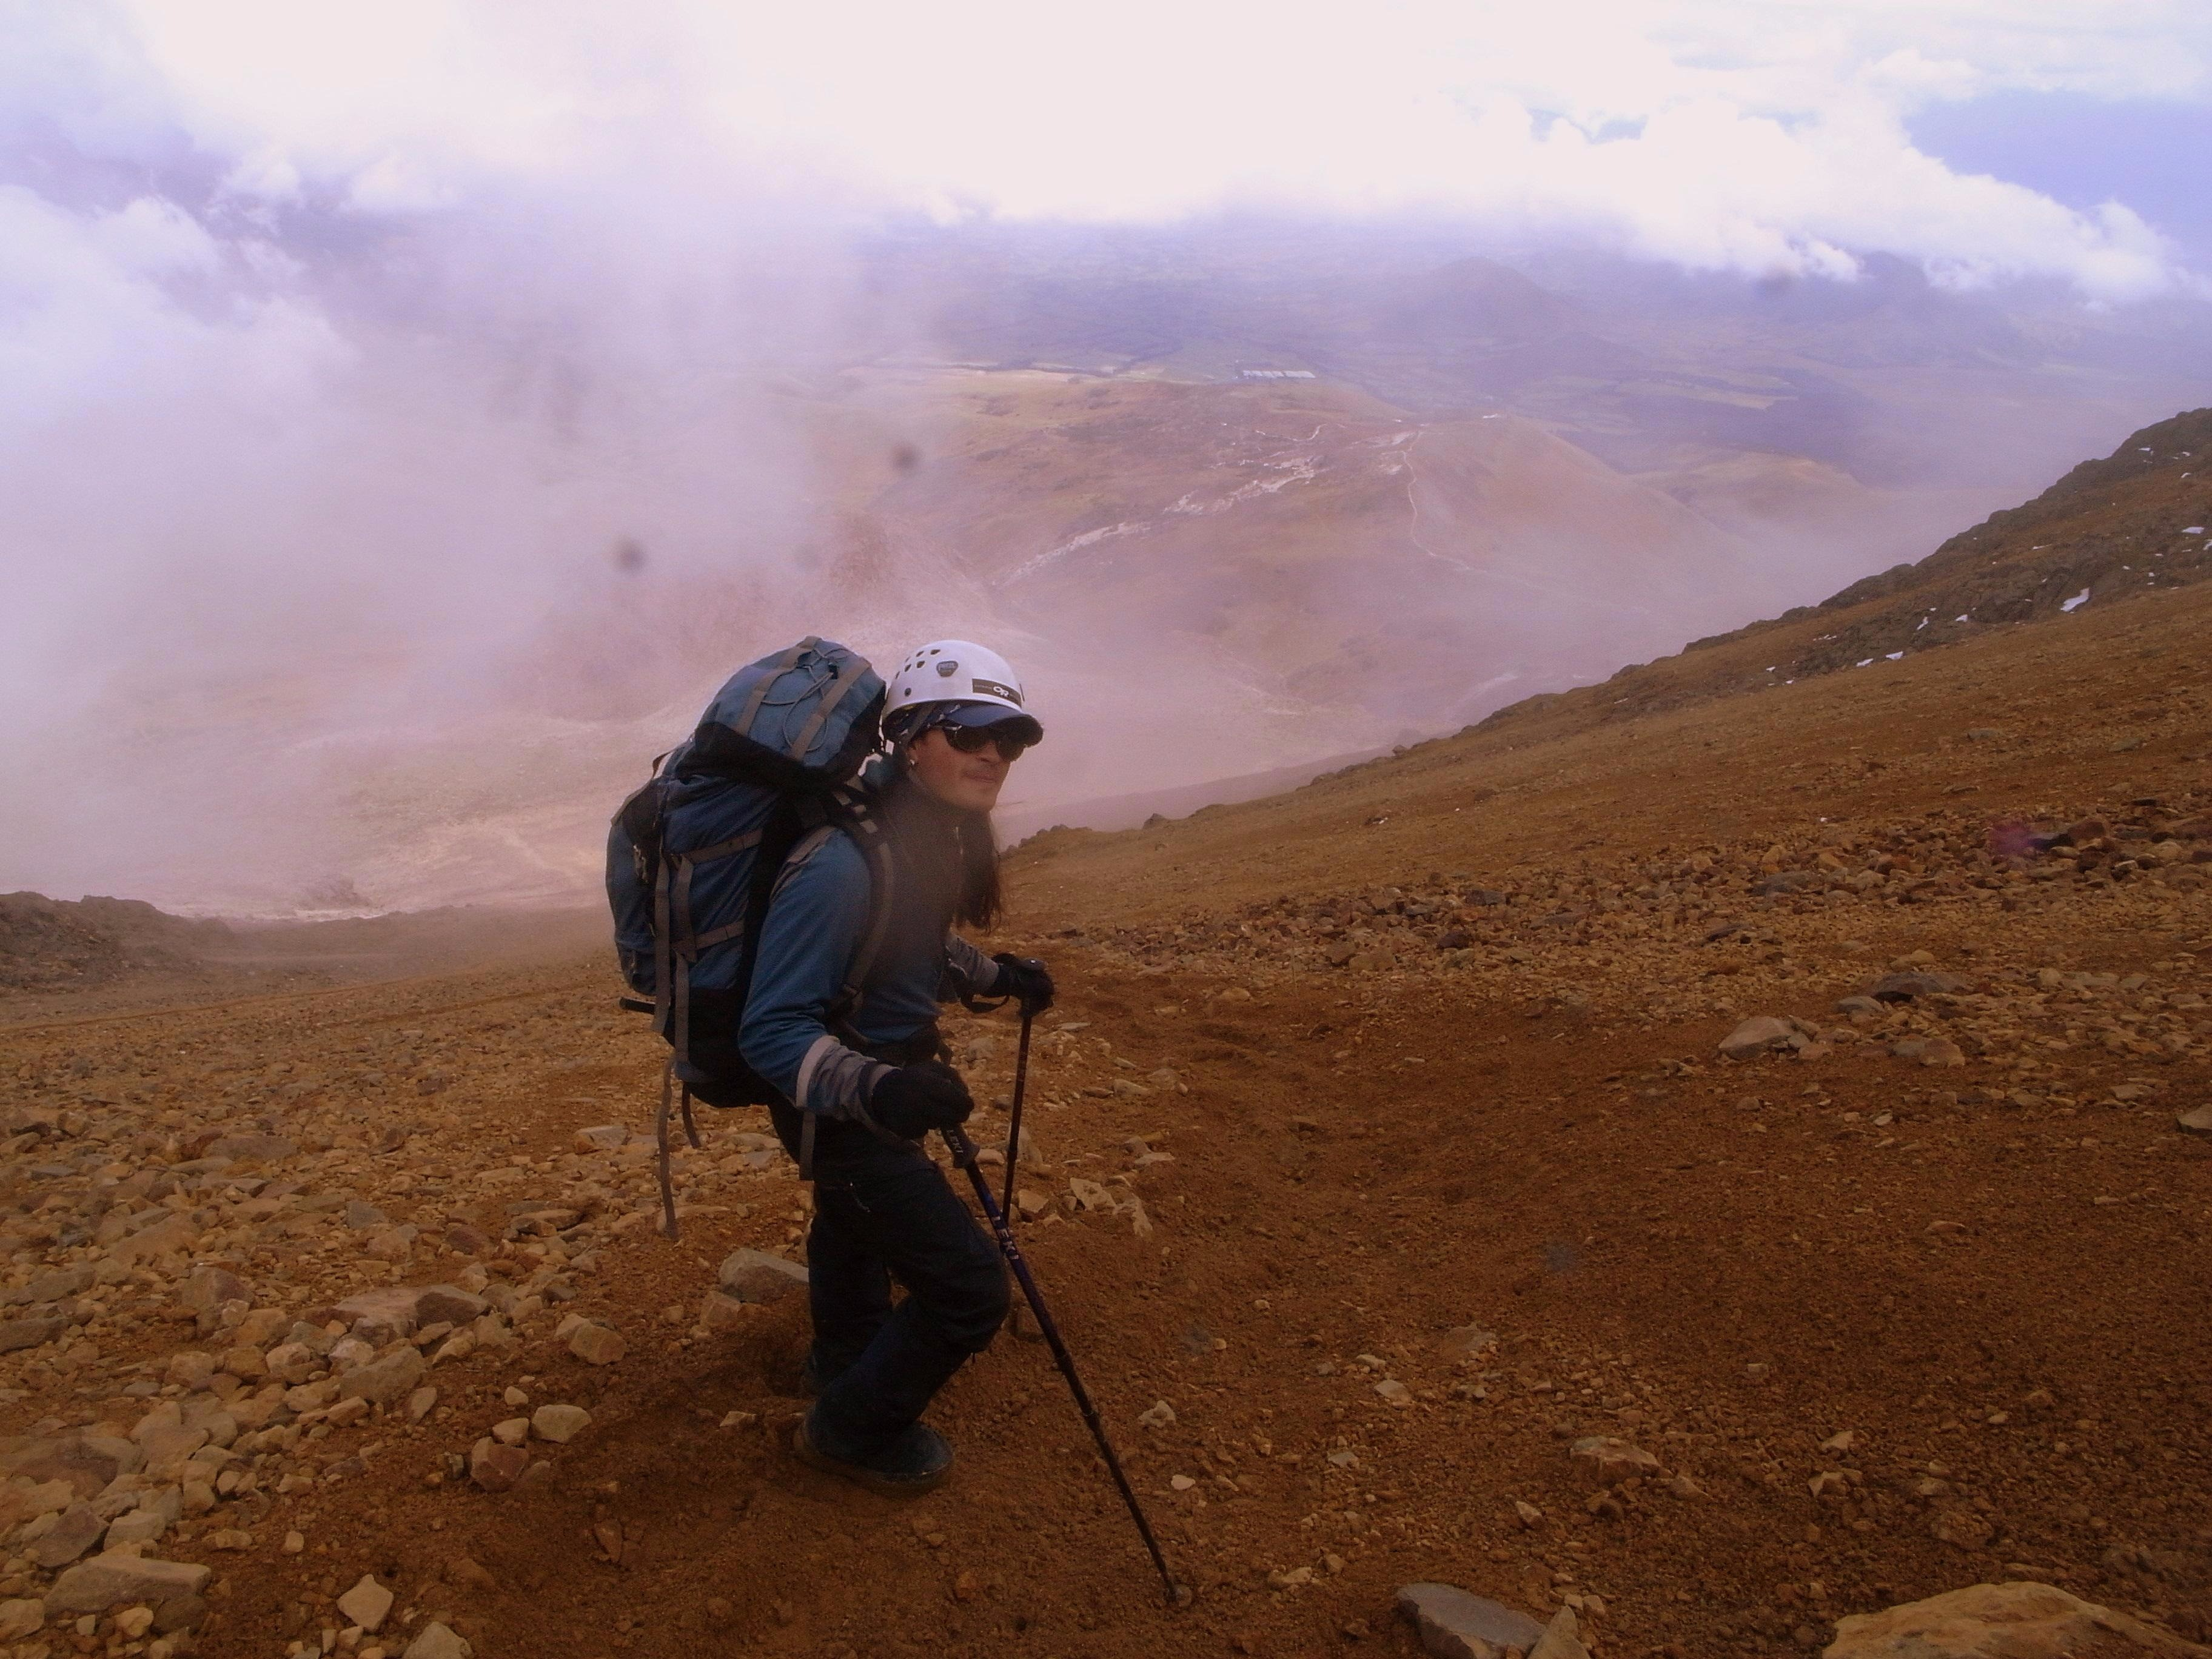helmet: (860, 622, 1047, 758)
